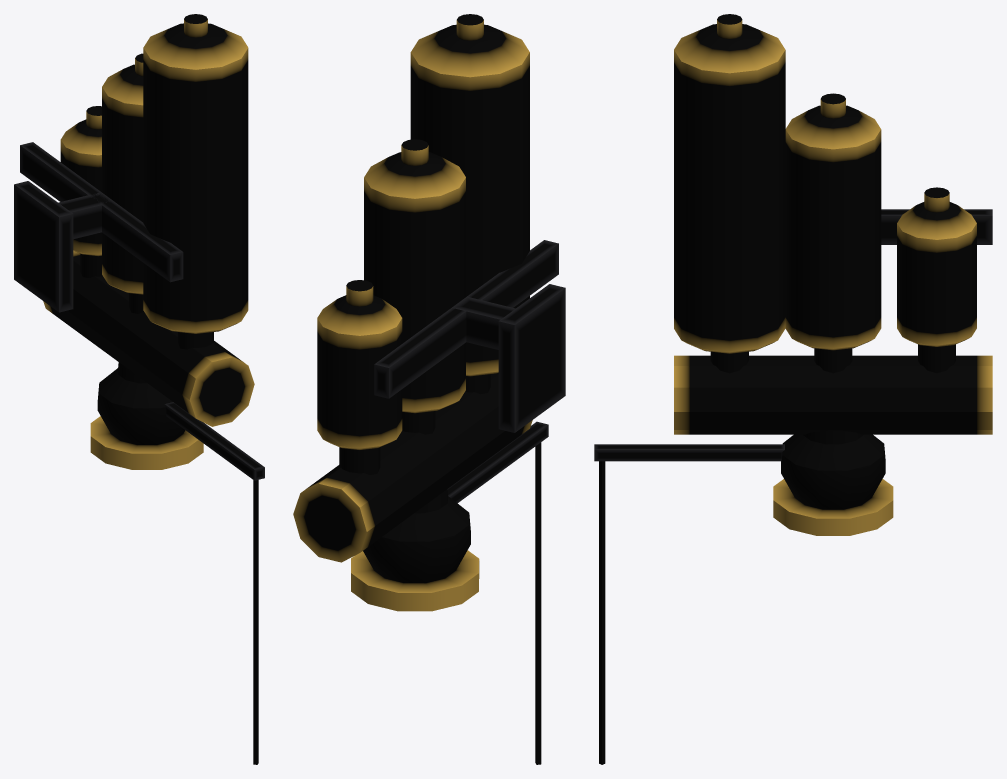
Rendered from whistle.glb.
3 renders of one model, left to right at view 1: azimuth 30°, elevation 25°; view 2: azimuth 150°, elevation 25°; view 3: azimuth 270°, elevation 25°, orthographic. The views are drawn at different scales.
Visible parts, largest first — view 1: whistle, stay, mouths; view 2: whistle, stay, mouths; view 3: whistle, stay, mouths.
Boxes of the visible parts, x1,y1,x2,y2 form: whistle: (43, 14, 254, 469); stay: (14, 142, 264, 764); mouths: (80, 253, 213, 349); whistle: (293, 14, 532, 611); stay: (374, 240, 565, 764); mouths: (339, 374, 490, 474); whistle: (674, 14, 992, 535); stay: (594, 209, 992, 764); mouths: (710, 344, 955, 373).
Bounding box in the file's own units: 0.2454 × 1.03 × 0.5.
